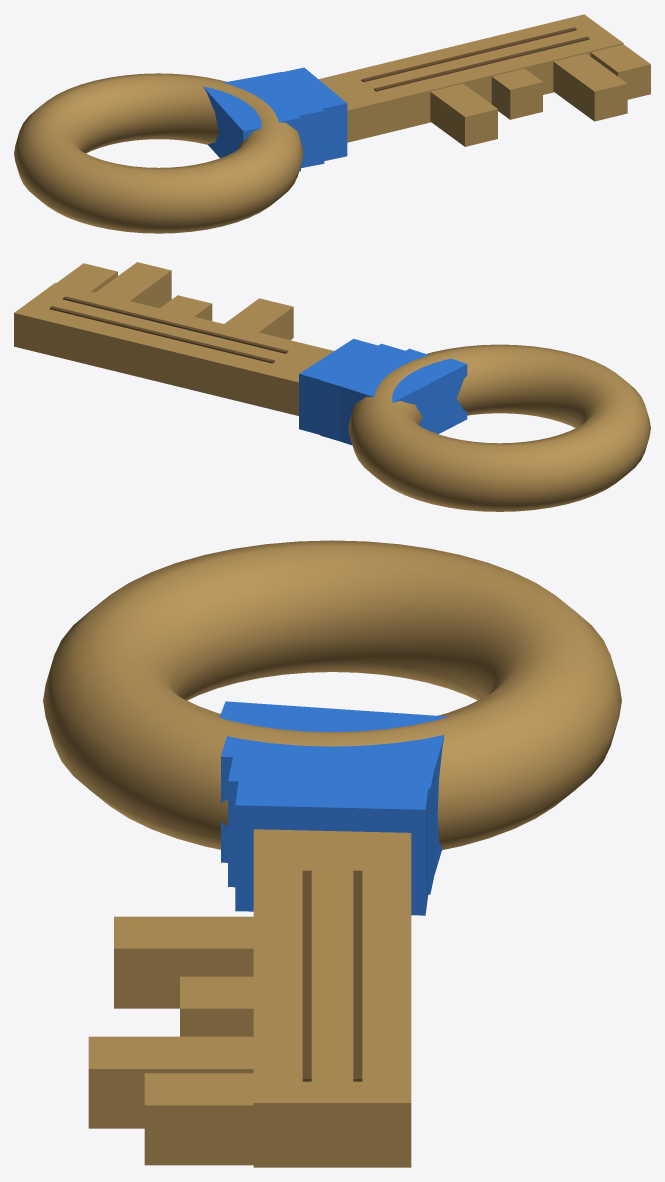
File: key.glb
The picture shows the model from 3 angles, top to bottom: view 1: azimuth 30°, elevation 25°; view 2: azimuth 150°, elevation 25°; view 3: azimuth 270°, elevation 25°; orthographic projection. The views are drawn at different scales.
Visible parts, largest first — view 1: Bow, Key blade, Cut tooth.002, Cut tooth, Tape overlap.003, Tape overlap, Tape overlap.002, Cut tooth.001, Cut tooth.003, Tape overlap.001, Keyway groove, Keyway groove.001; view 2: Bow, Key blade, Tape overlap, Tape overlap.003, Tape overlap.002, Cut tooth.002, Tape overlap.001, Cut tooth, Cut tooth.003, Keyway groove.001, Keyway groove, Cut tooth.001; view 3: Bow, Key blade, Cut tooth.003, Tape overlap.003, Cut tooth, Cut tooth.002, Tape overlap.002, Tape overlap.001, Tape overlap, Cut tooth.001, Keyway groove, Keyway groove.001.
Part boxes in pixels (box(x1,y1,x2,y2)): Bow: box(14, 73, 303, 233); Key blade: box(318, 14, 623, 142); Cut tooth.002: box(553, 53, 627, 121); Cut tooth: box(430, 83, 497, 146); Tape overlap.003: box(271, 67, 347, 160); Tape overlap: box(203, 82, 261, 157); Tape overlap.002: box(259, 72, 324, 168); Cut tooth.001: box(491, 68, 542, 119); Cut tooth.003: box(590, 44, 650, 99); Tape overlap.001: box(225, 76, 300, 171); Keyway groove: box(374, 36, 589, 91); Keyway groove.001: box(361, 27, 576, 82); Bow: box(348, 344, 650, 511); Key blade: box(14, 283, 333, 415); Tape overlap: box(363, 358, 467, 433); Tape overlap.003: box(299, 338, 385, 434); Tape overlap.002: box(320, 343, 412, 441); Cut tooth.002: box(96, 262, 171, 308); Tape overlap.001: box(341, 348, 429, 445); Cut tooth: box(224, 298, 293, 340); Cut tooth.003: box(56, 263, 117, 292); Keyway groove.001: box(49, 306, 274, 363); Keyway groove: box(63, 296, 288, 353); Cut tooth.001: box(160, 295, 212, 320); Bow: box(43, 540, 621, 850); Key blade: box(253, 829, 411, 1167); Cut tooth.003: box(144, 1073, 332, 1165); Tape overlap.003: box(235, 775, 429, 915); Cut tooth: box(114, 916, 253, 1008); Cut tooth.002: box(88, 1036, 253, 1128); Tape overlap.002: box(228, 757, 434, 894); Tape overlap.001: box(221, 730, 443, 873); Tape overlap: box(219, 701, 448, 747); Cut tooth.001: box(180, 976, 253, 1036); Keyway groove: box(302, 870, 311, 1081); Keyway groove.001: box(353, 870, 362, 1081).
Bounding box in the file's own units: 2.59 × 0.26 × 1.14.
